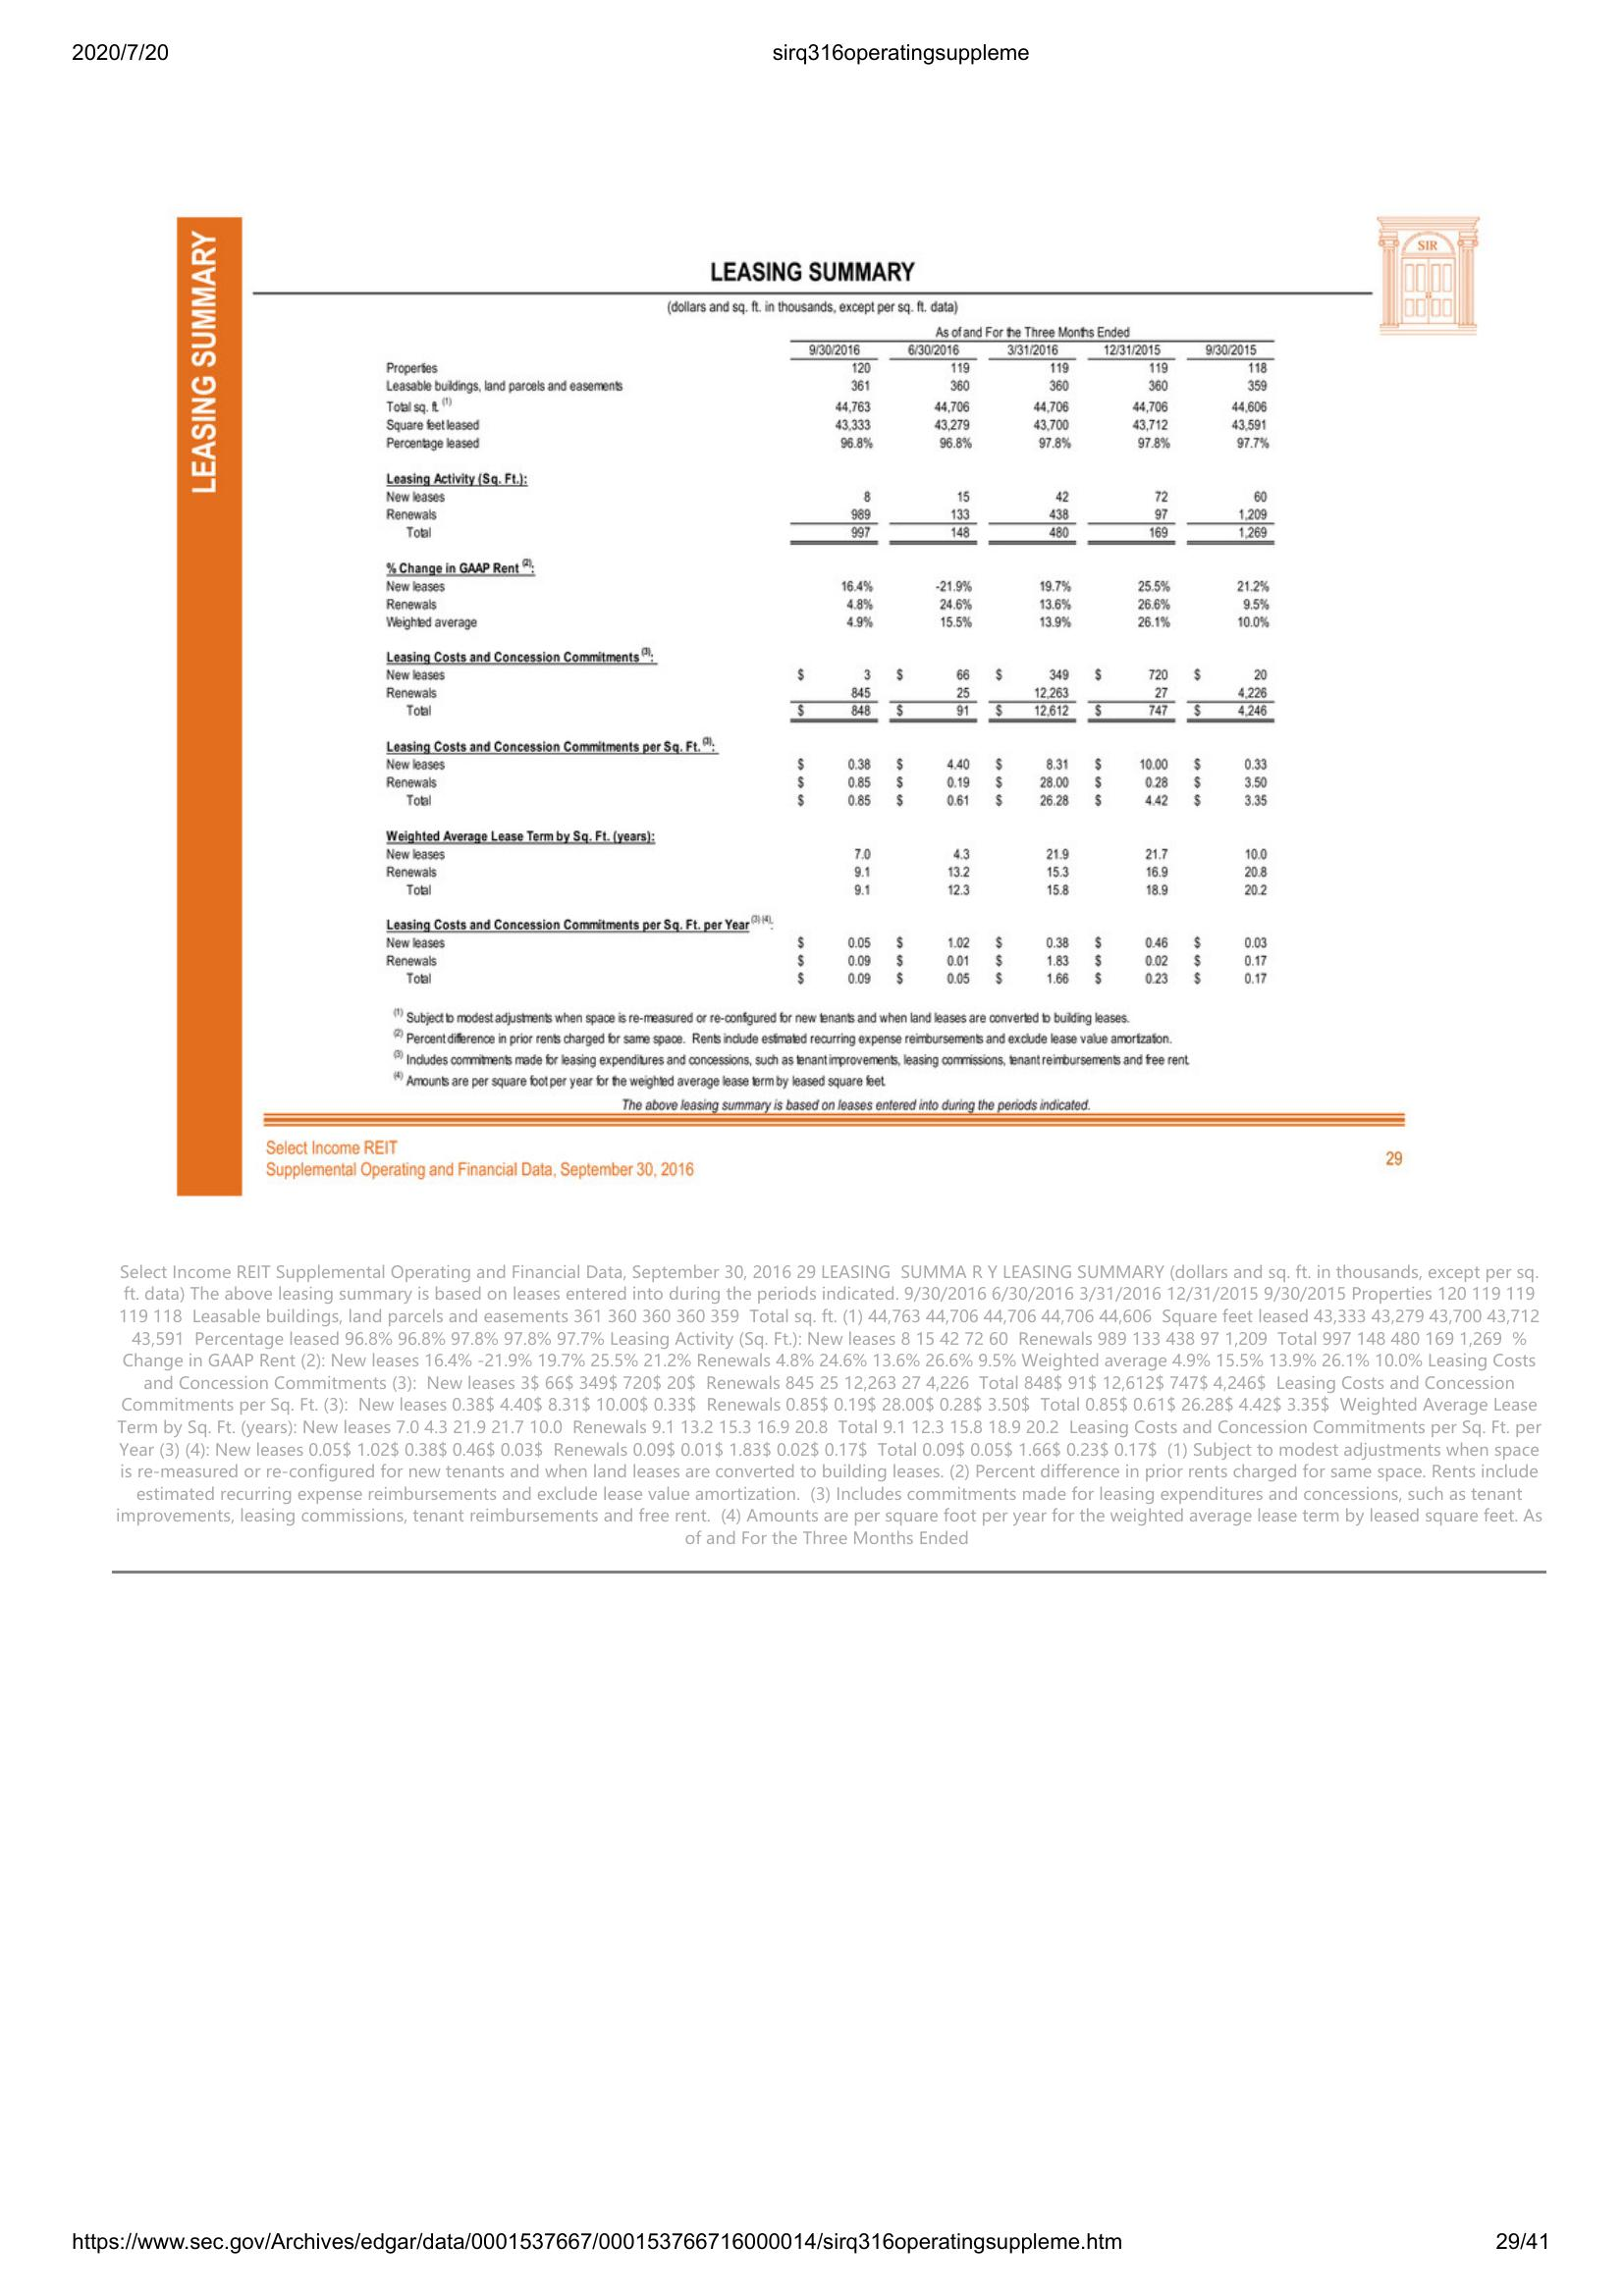table: (379, 321, 1280, 1004)
